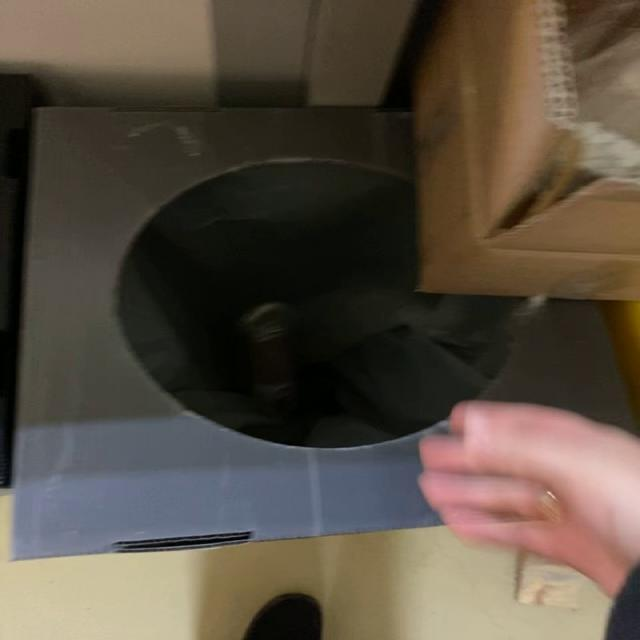bin: (19, 108, 629, 448)
metal: (236, 302, 296, 416)
